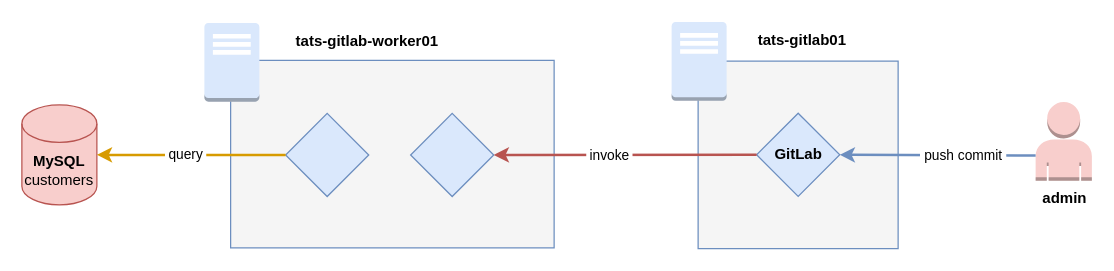
This 1114x271 diagram has some shape labels left out. The box of each missing label's shape, as (x1, y1, x2, y2) in pixels:
GitLab Runner: (409, 112, 494, 196)
UTCT: (284, 112, 369, 196)
